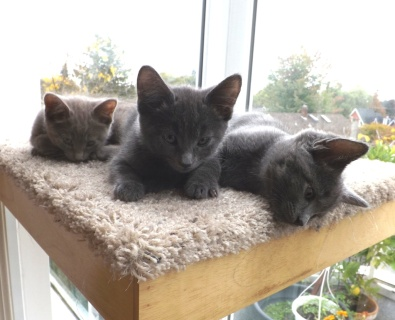Cat: (101, 66, 253, 202), (214, 108, 371, 228), (28, 90, 137, 162)
